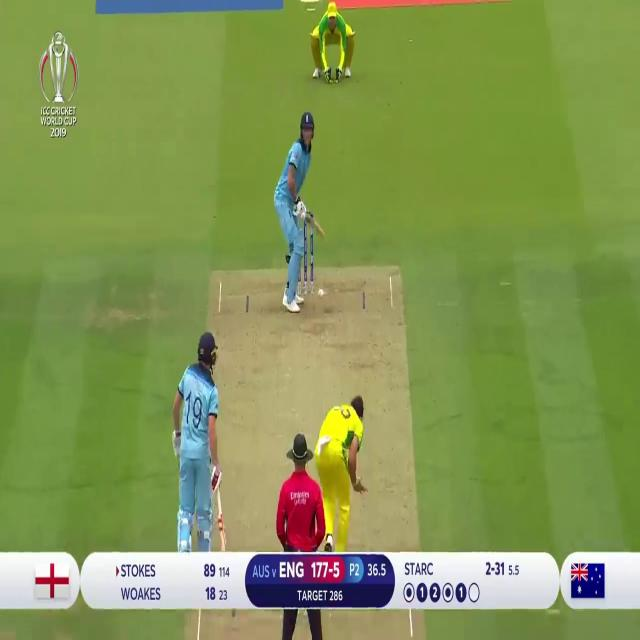ball: (316, 286, 324, 299)
